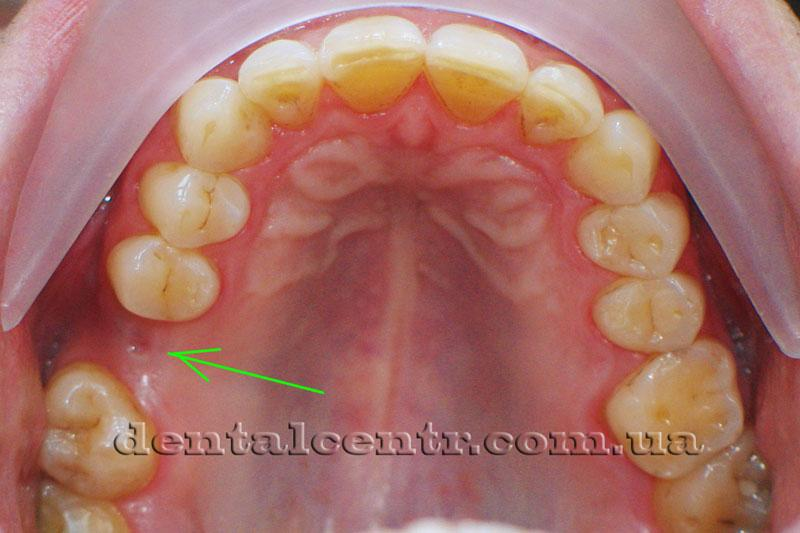UL1BC_healthy: (573, 206, 683, 278)
UL1M_healthy: (607, 344, 742, 425)
UL2BC_healthy: (597, 274, 702, 355)
ULCI_healthy: (429, 28, 522, 122)
ULC_healthy: (569, 129, 651, 201)
ULLI_healthy: (518, 71, 596, 143)
UR1BC_decay: (142, 163, 253, 249)
UR1M_decay: (44, 373, 116, 491)
UR2BC_decay: (111, 245, 217, 330)
URCI_healthy: (328, 16, 425, 110)
URC_healthy: (177, 86, 272, 165)
URLI_healthy: (237, 42, 333, 125)
